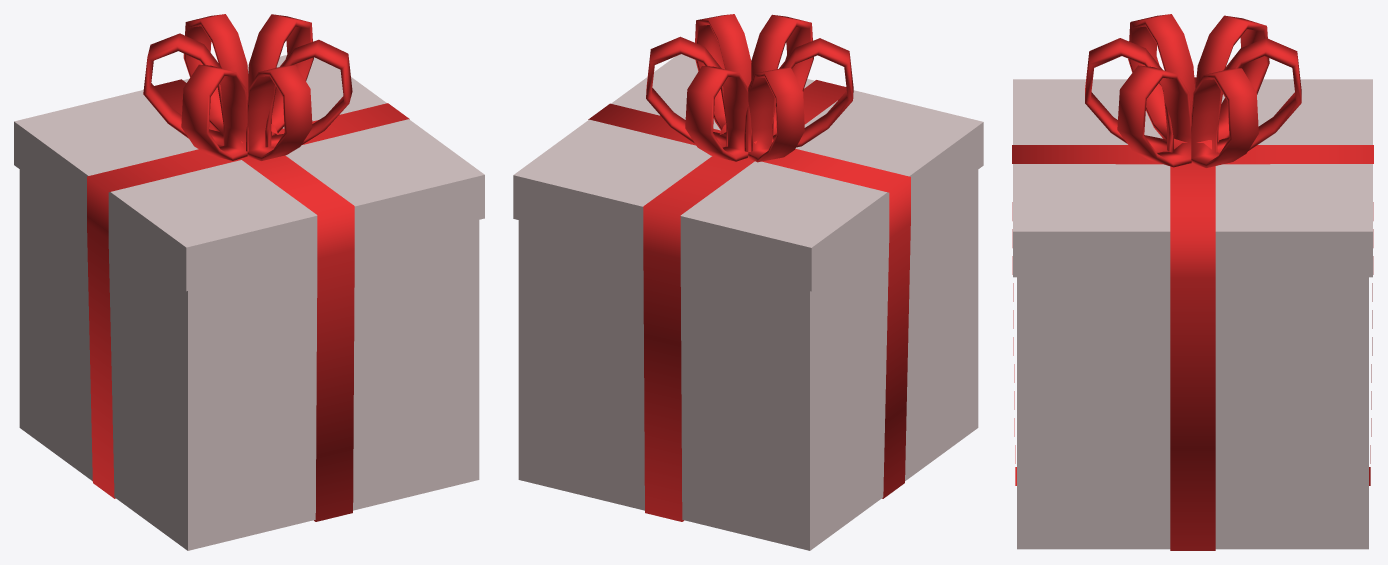
File: preboxrib08270112.fbx
3 renders of one model, left to right at view 1: azimuth 30°, elevation 25°; view 2: azimuth 150°, elevation 25°; view 3: azimuth 270°, elevation 25°, orthographic. The views are drawn at different scales.
Parts seen in each view (by area): view 1: Cube, 平面; view 2: Cube, 平面; view 3: Cube, 平面.
Boxes of the visible parts, x1,y1,x2,y2 form: Cube: [14, 55, 484, 550]; 平面: [87, 14, 409, 521]; Cube: [513, 54, 983, 550]; 平面: [588, 14, 910, 521]; Cube: [1013, 79, 1372, 549]; 平面: [1012, 14, 1373, 550].
Size of the model in its own units: 2.07 by 2.71 by 2.06.
